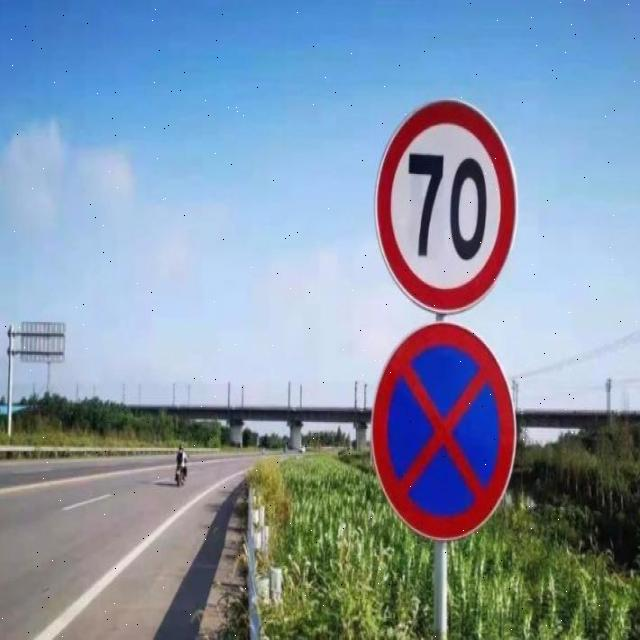speed limit 70: (373, 98, 517, 315)
